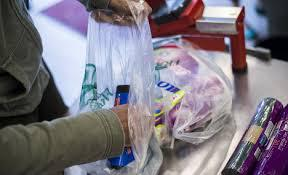Plastic: (68, 1, 165, 174), (151, 42, 234, 152)
